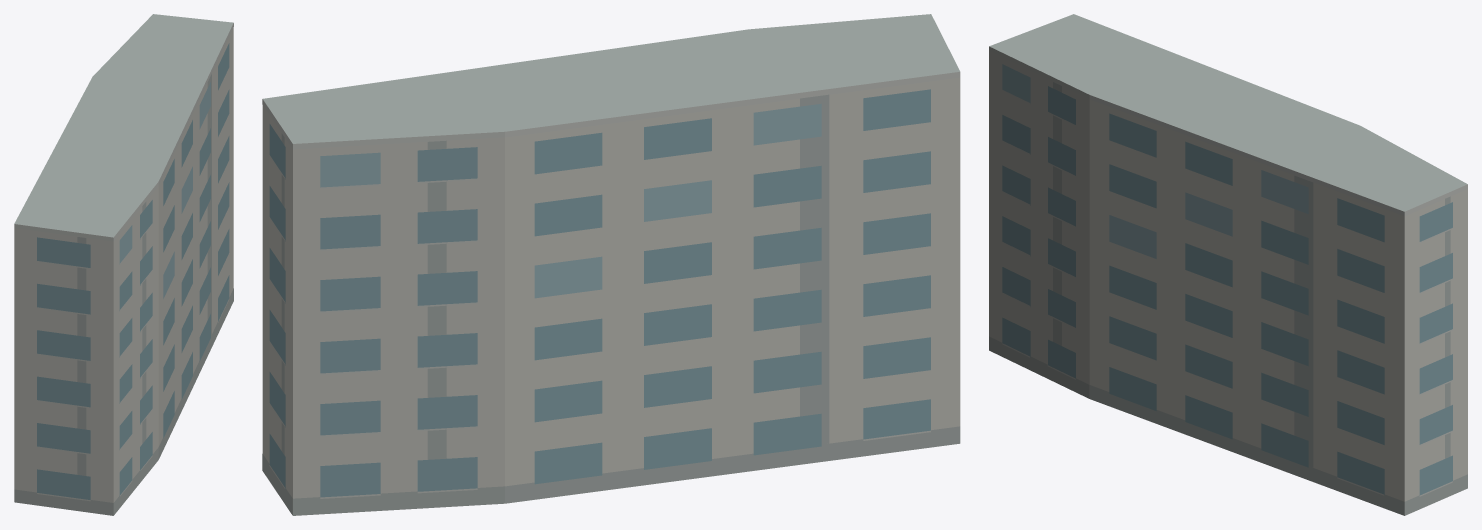
The model's file is survey-upis-33000016.glb.
3 renders of one model, left to right at view 1: azimuth 30°, elevation 25°; view 2: azimuth 150°, elevation 25°; view 3: azimuth 270°, elevation 25°, orthographic. The views are drawn at different scales.
Visible parts, largest first — view 1: survey-upis-33000016.tmp; view 2: survey-upis-33000016.tmp; view 3: survey-upis-33000016.tmp.
Part boxes in pixels (<box>): survey-upis-33000016.tmp: <box>14,14,233,515</box>; survey-upis-33000016.tmp: <box>262,14,960,515</box>; survey-upis-33000016.tmp: <box>989,14,1467,515</box>.
Bounding box in the file's own units: 22.35 × 16.02 × 22.87.
